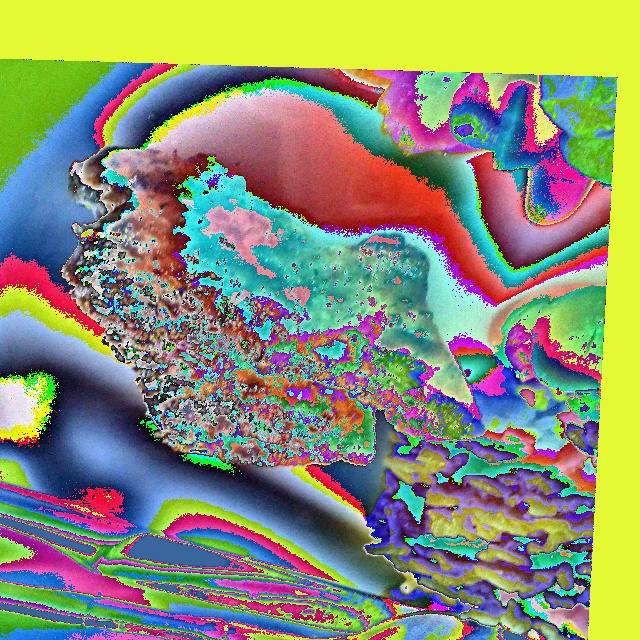background: (60, 149, 606, 639), (279, 69, 617, 227)
